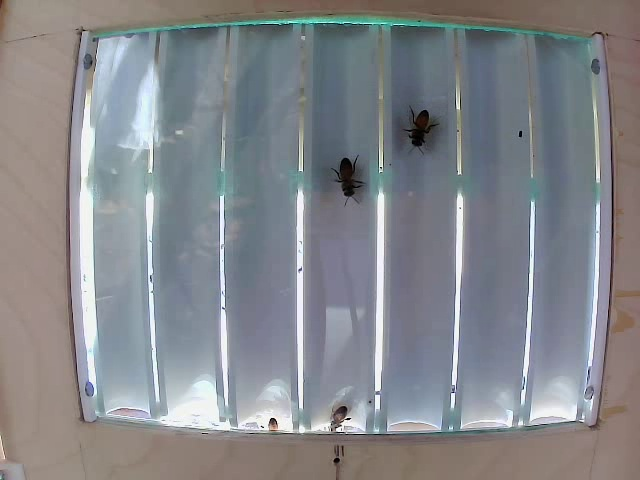bee: (328, 146, 366, 209), (404, 103, 439, 159)
